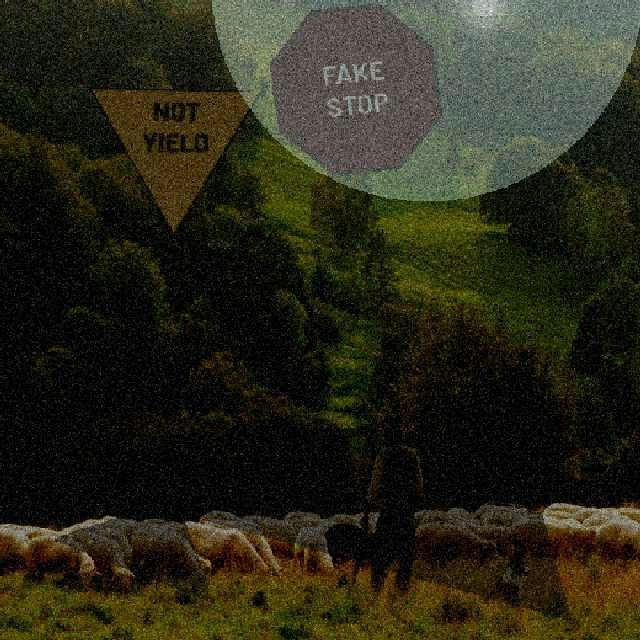FAKE_STOP: (268, 2, 441, 174)
NOT_YIELD: (88, 86, 261, 235)
